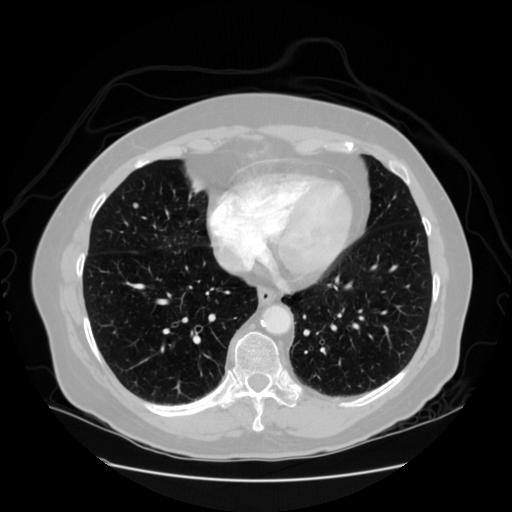nodule: (130, 200, 142, 212)
